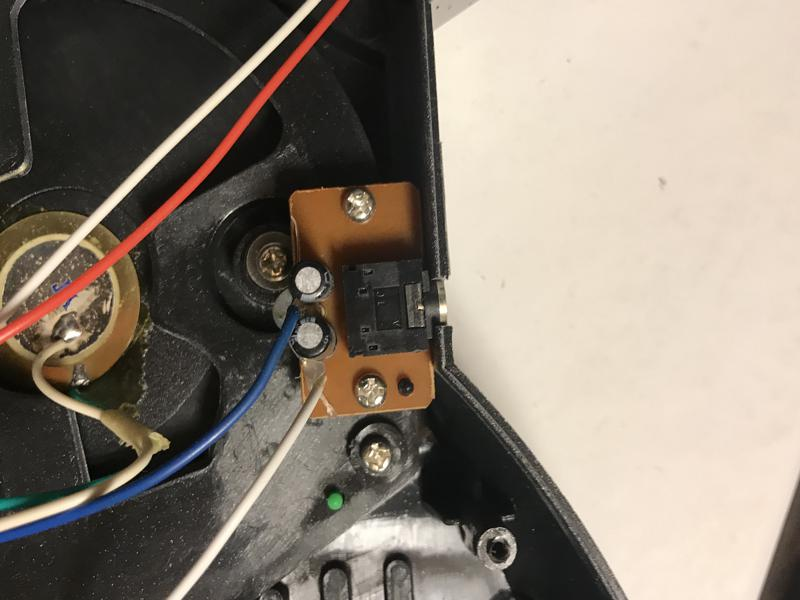Capacitor: (282, 309, 339, 363), (284, 256, 336, 303)
